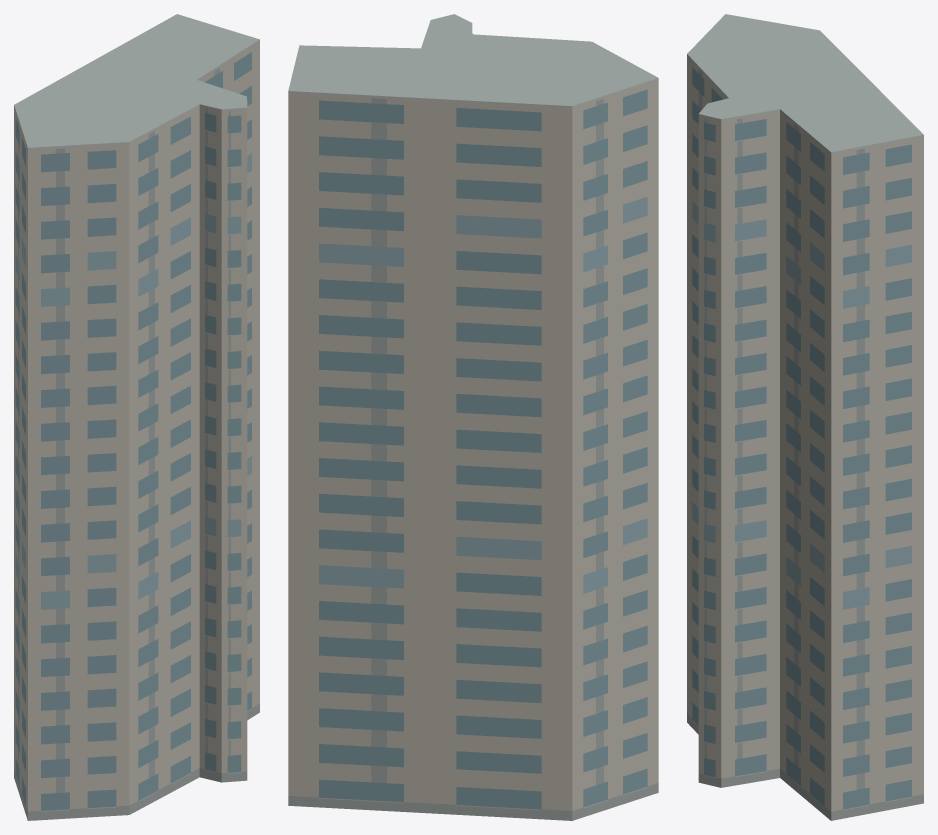
Rendered from survey-upis-32837093.glb.
3 views of the same model, side by side, from view 1: azimuth 30°, elevation 25°; view 2: azimuth 150°, elevation 25°; view 3: azimuth 270°, elevation 25° (orthographic). The views are drawn at different scales.
Parts seen in each view (by area): view 1: survey-upis-32837093.tmp; view 2: survey-upis-32837093.tmp; view 3: survey-upis-32837093.tmp.
Boxes of the visible parts, x1,y1,x2,y2 form: survey-upis-32837093.tmp: [14, 14, 259, 820]; survey-upis-32837093.tmp: [288, 14, 658, 820]; survey-upis-32837093.tmp: [687, 14, 923, 820].
Size of the model in its own units: 27.05 by 61 by 19.59.
